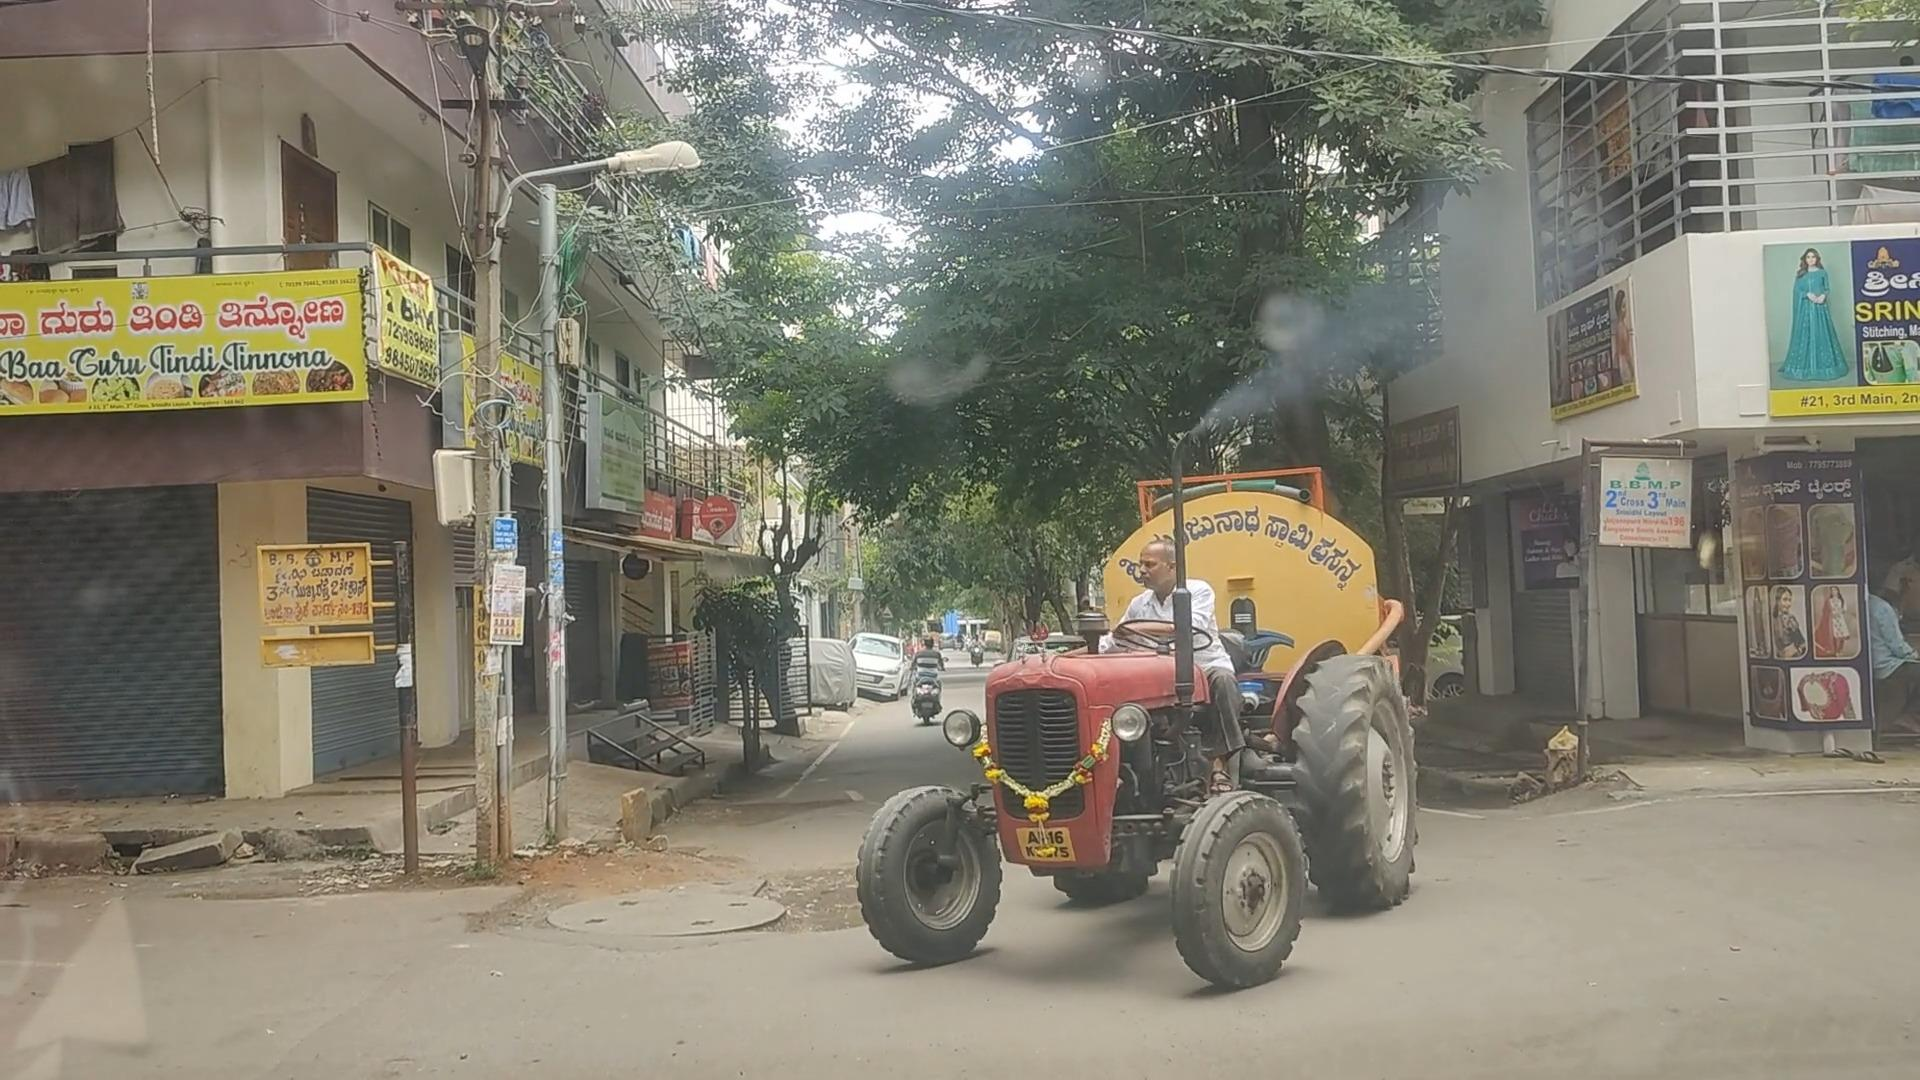HMV: (876, 448, 1429, 1010)
RoadDamages: (541, 851, 864, 984)
